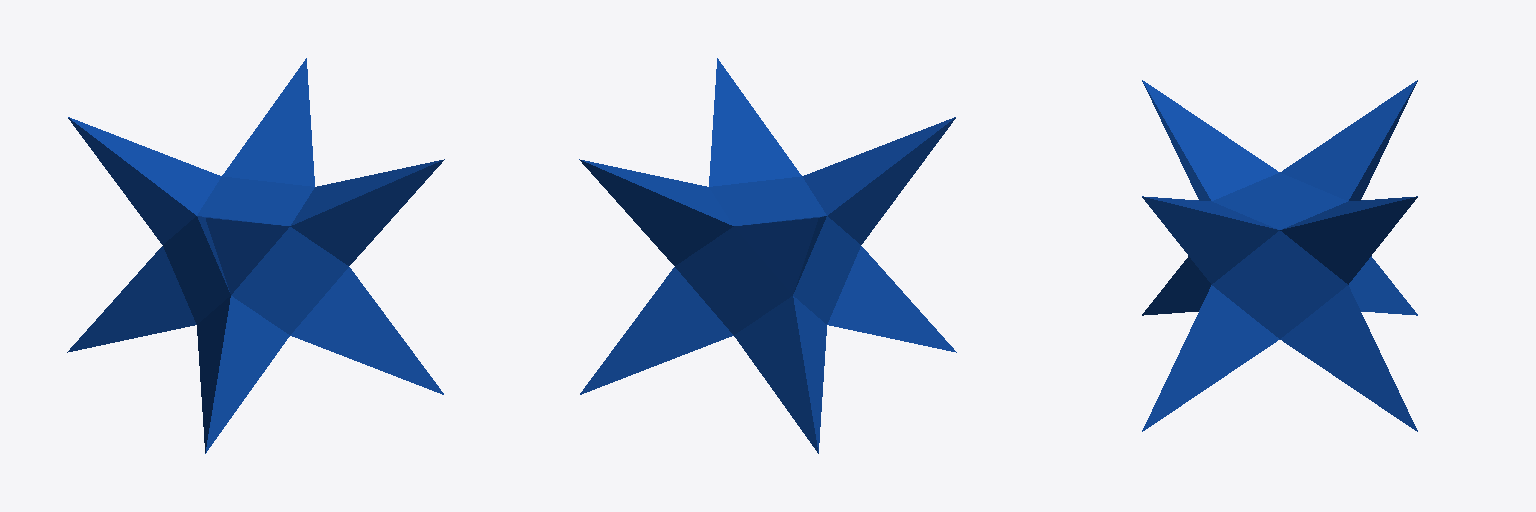
Rendered from Enemy_2-10-17.obj.
3 views of the same model, side by side, from view 1: azimuth 30°, elevation 25°; view 2: azimuth 150°, elevation 25°; view 3: azimuth 270°, elevation 25° (orthographic).
Parts seen in each view (by area): view 1: Box001; view 2: Box001; view 3: Box001.
Part boxes in pixels (x1,y1,x2,y2): Box001: (67, 58, 444, 453); Box001: (579, 58, 956, 453); Box001: (1142, 80, 1417, 431).
Bounding box in the file's own units: 119 × 112 × 119.